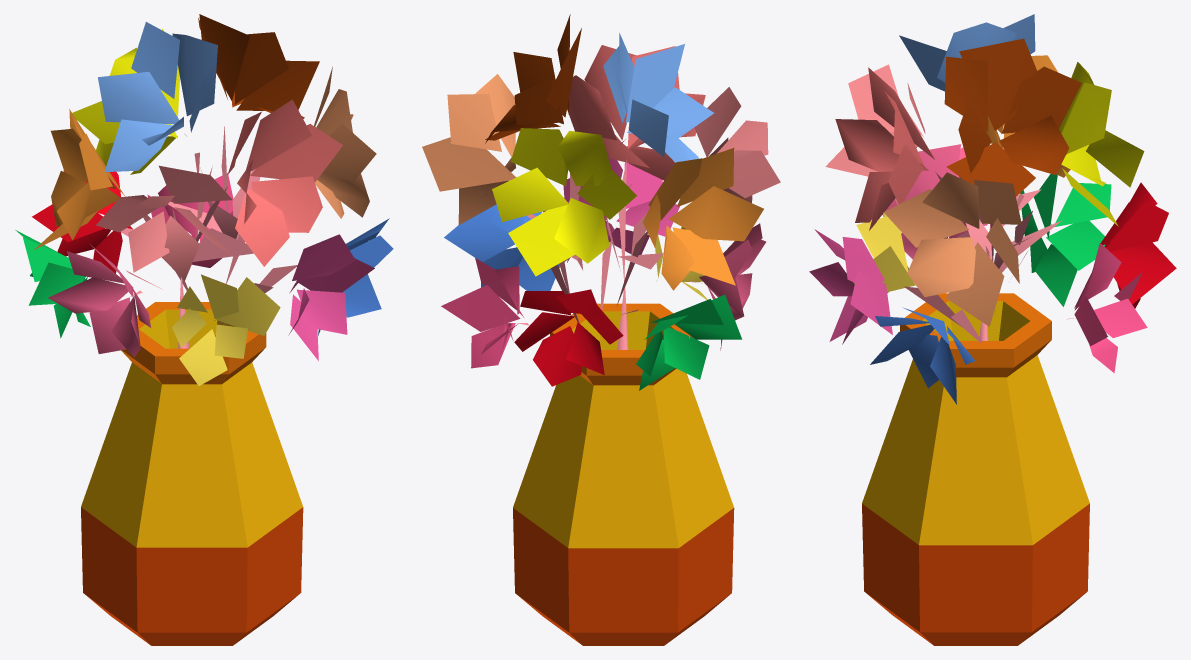
Rendered from HWN20_FlowerPot_06.glb.
The picture shows the model from 3 angles, left to right: view 1: azimuth 30°, elevation 25°; view 2: azimuth 150°, elevation 25°; view 3: azimuth 270°, elevation 25°; orthographic projection. The views are drawn at different scales.
Parts seen in each view (by area): view 1: HWN20_FlowerPot_06; view 2: HWN20_FlowerPot_06; view 3: HWN20_FlowerPot_06.
Part boxes in pixels (x1,y1,x2,y2): HWN20_FlowerPot_06: (15, 14, 393, 645); HWN20_FlowerPot_06: (422, 14, 780, 645); HWN20_FlowerPot_06: (809, 14, 1176, 645).
Size of what is drawn, in the model's own units: 0.3363 by 0.5741 by 0.3225.
Materials: 1 (1 with a texture image).
